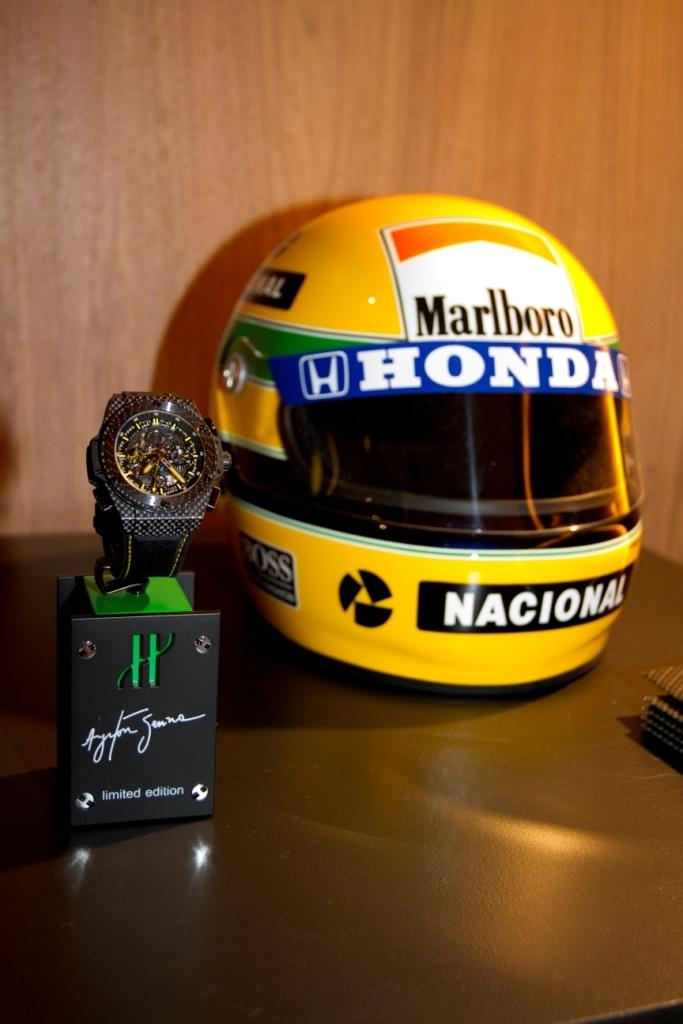helmet: (207, 192, 647, 703)
